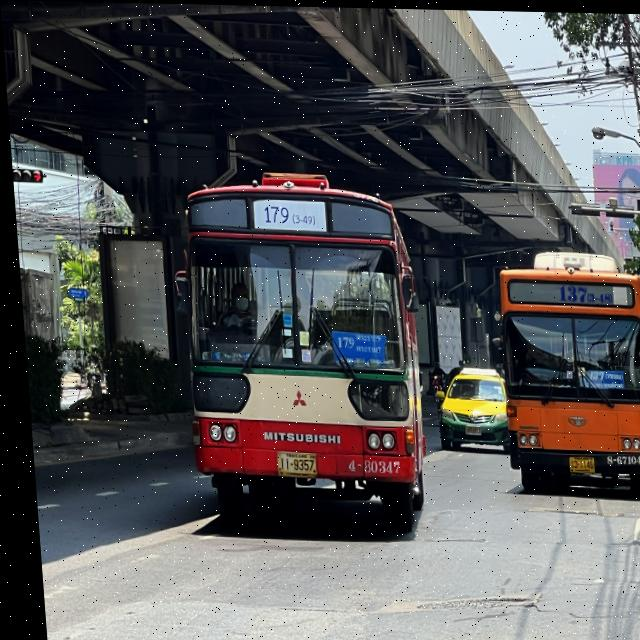BMTA-bus: (166, 162, 428, 537), (490, 244, 640, 497)
Bus-Line-Number: (250, 198, 323, 229), (552, 281, 609, 302)
Destination-Sign-Normal: (326, 330, 383, 368), (580, 367, 619, 386)
